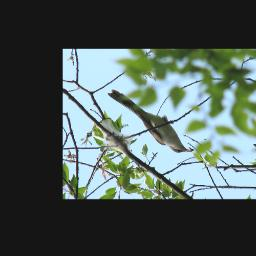Cuckoo: (107, 91, 192, 154)
